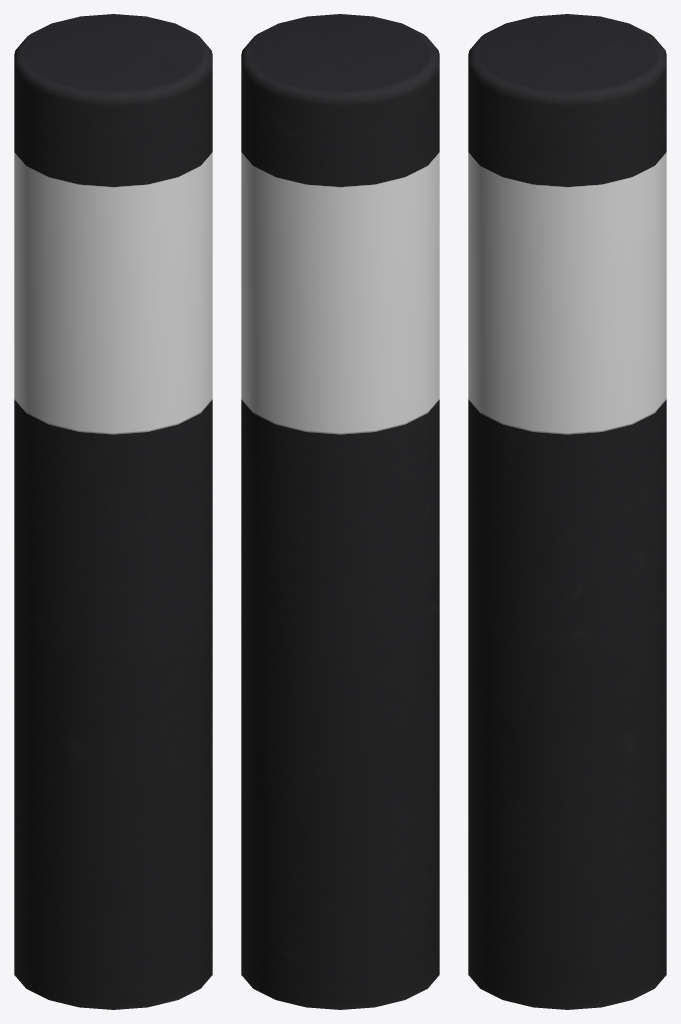
File: GardenLightPost01_1.FBX
3 views of the same model, side by side, from view 1: azimuth 30°, elevation 25°; view 2: azimuth 150°, elevation 25°; view 3: azimuth 270°, elevation 25° (orthographic).
Parts seen in each view (by area): view 1: GardenLightPost01_1; view 2: GardenLightPost01_1; view 3: GardenLightPost01_1.
Part boxes in pixels (x1,y1,x2,y2): GardenLightPost01_1: [14, 14, 212, 1009]; GardenLightPost01_1: [241, 14, 439, 1009]; GardenLightPost01_1: [468, 14, 666, 1009].
Size of what is drawn, in the model's own units: 0.1 by 0.5 by 0.0985.
